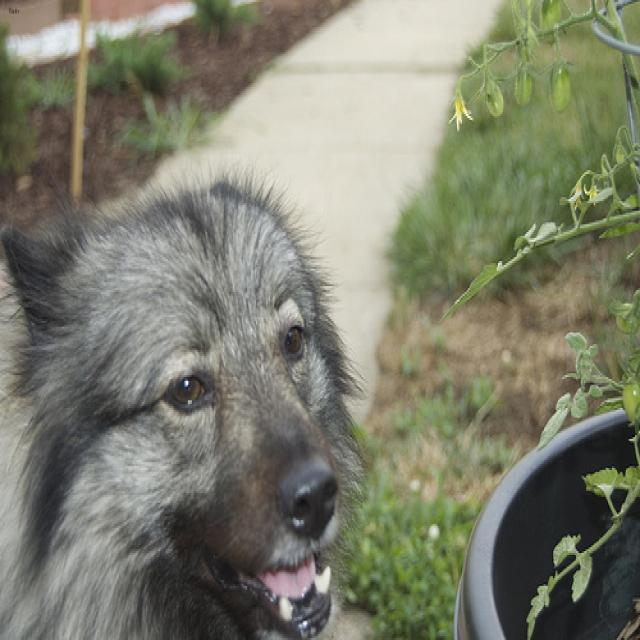dog-keeshond: (1, 168, 376, 636)
